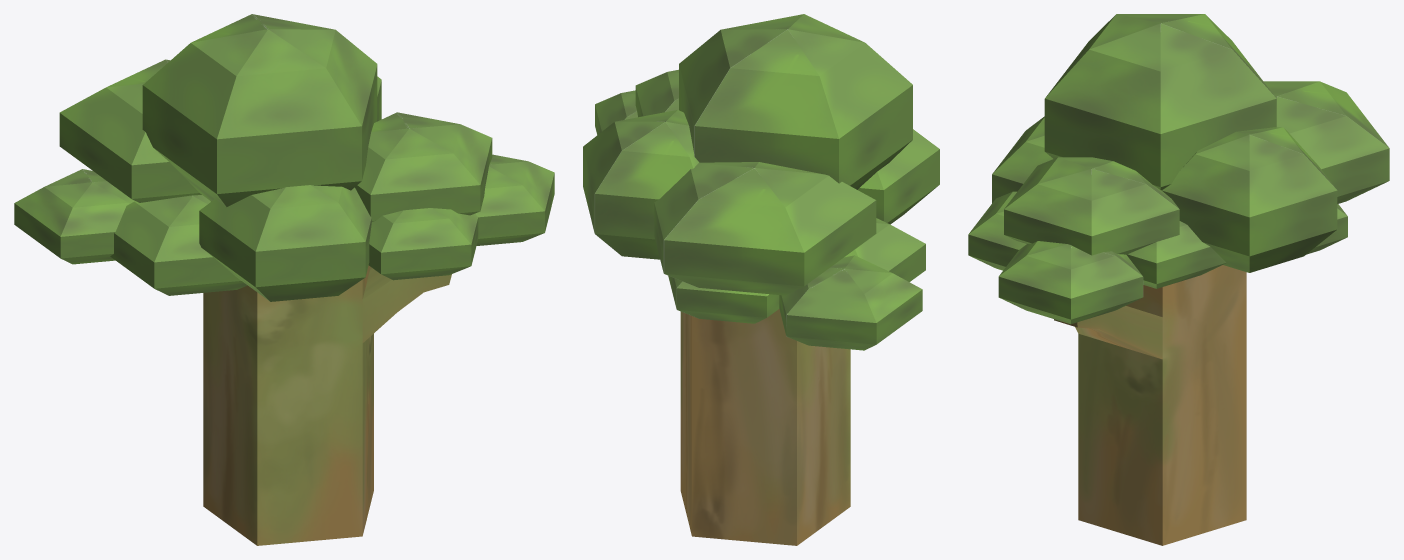
File: Boom.fbx
3 views of the same model, side by side, from view 1: azimuth 30°, elevation 25°; view 2: azimuth 150°, elevation 25°; view 3: azimuth 270°, elevation 25° (orthographic). The views are drawn at different scales.
Visible parts, largest first — view 1: pSphere13; view 2: pSphere13; view 3: pSphere13.
Boxes of the visible parts, x1,y1,x2,y2 form: pSphere13: (14, 14, 554, 545); pSphere13: (583, 14, 939, 545); pSphere13: (968, 14, 1389, 545).
Size of the model in its own units: 15.04 by 17.08 by 13.8.
1 material, 1 textured.
